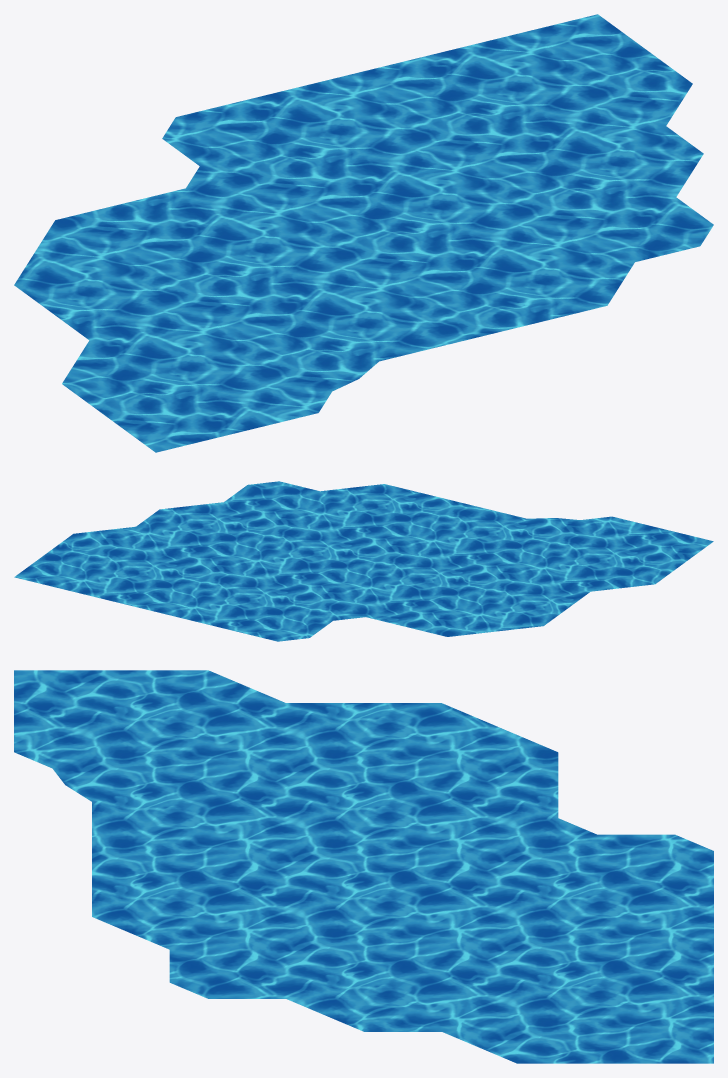
The model's file is watershapedsmaller.obj.
3 renders of one model, top to bottom at view 1: azimuth 30°, elevation 25°; view 2: azimuth 150°, elevation 25°; view 3: azimuth 270°, elevation 25°, orthographic. The views are drawn at different scales.
Parts seen in each view (by area): view 1: Plane; view 2: Plane; view 3: Plane.
Boxes of the visible parts, left/top/right/bottom form: Plane: left=14, top=14, right=713, bottom=452; Plane: left=14, top=481, right=713, bottom=641; Plane: left=14, top=670, right=713, bottom=1063.
Bounding box in the file's own units: 51.9 × 0 × 39.01.
1 material, 1 textured.
